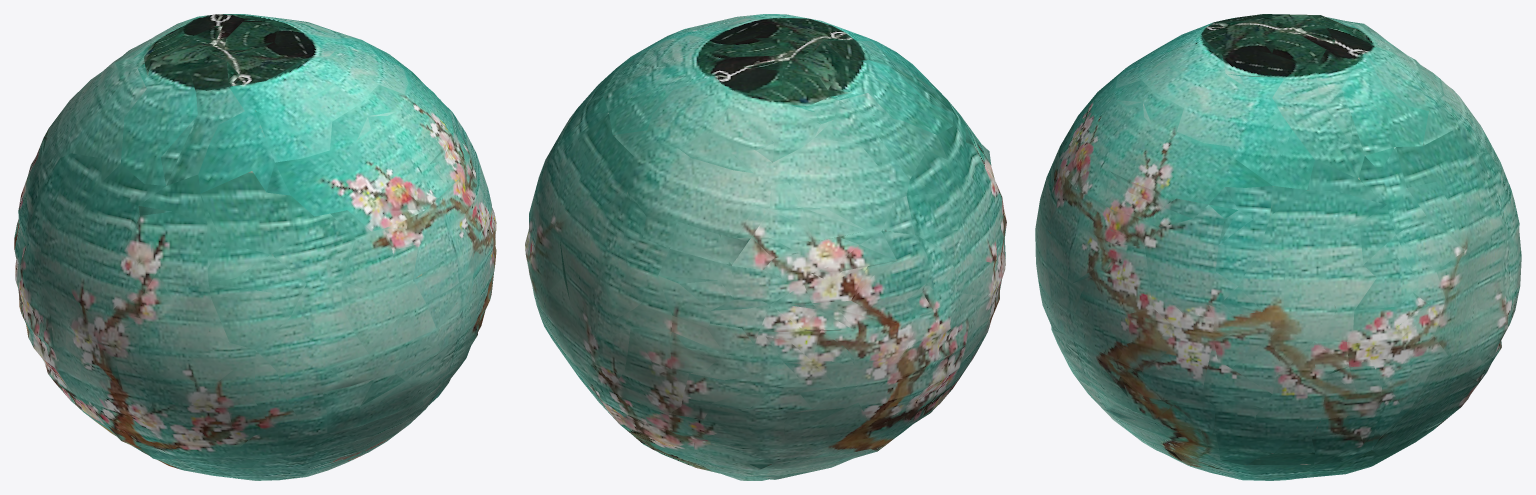
Rendered from Ac3 Felix and Bobbi Plum 1.glb.
The picture shows the model from 3 angles, left to right: view 1: azimuth 30°, elevation 25°; view 2: azimuth 150°, elevation 25°; view 3: azimuth 270°, elevation 25°; orthographic projection.
Size of the model in its own units: 992 by 952 by 1000.
1 material, 1 textured.
